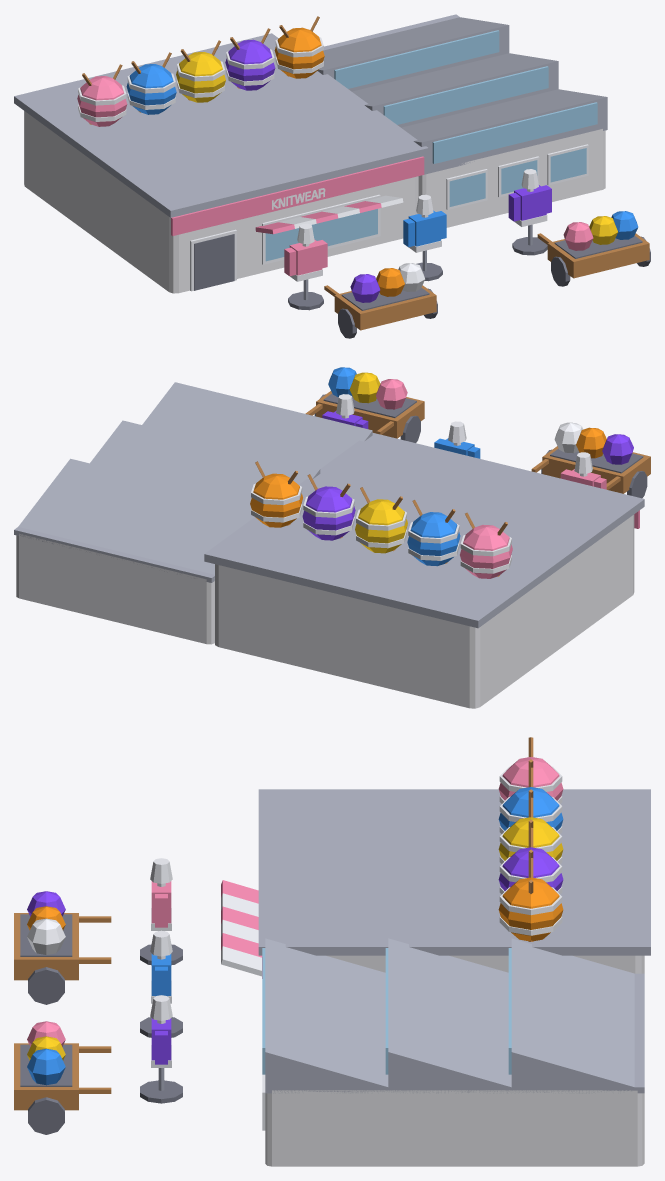
The model's file is knitwear-factory-2x2-t5-tone-a.glb.
3 renders of one model, top to bottom at view 1: azimuth 30°, elevation 25°; view 2: azimuth 150°, elevation 25°; view 3: azimuth 270°, elevation 25°, orthographic. The views are drawn at different scales.
Visible parts, largest first — view 1: knitwear-factory-2x2-t5-tone-a; view 2: knitwear-factory-2x2-t5-tone-a; view 3: knitwear-factory-2x2-t5-tone-a.
Part boxes in pixels (x1,y1,x2,y2): knitwear-factory-2x2-t5-tone-a: [14, 14, 650, 338]; knitwear-factory-2x2-t5-tone-a: [14, 367, 650, 708]; knitwear-factory-2x2-t5-tone-a: [14, 737, 650, 1166].
Size of the model in its own units: 1.96 by 0.5944 by 1.97.
Materials: 1 (1 with a texture image).
